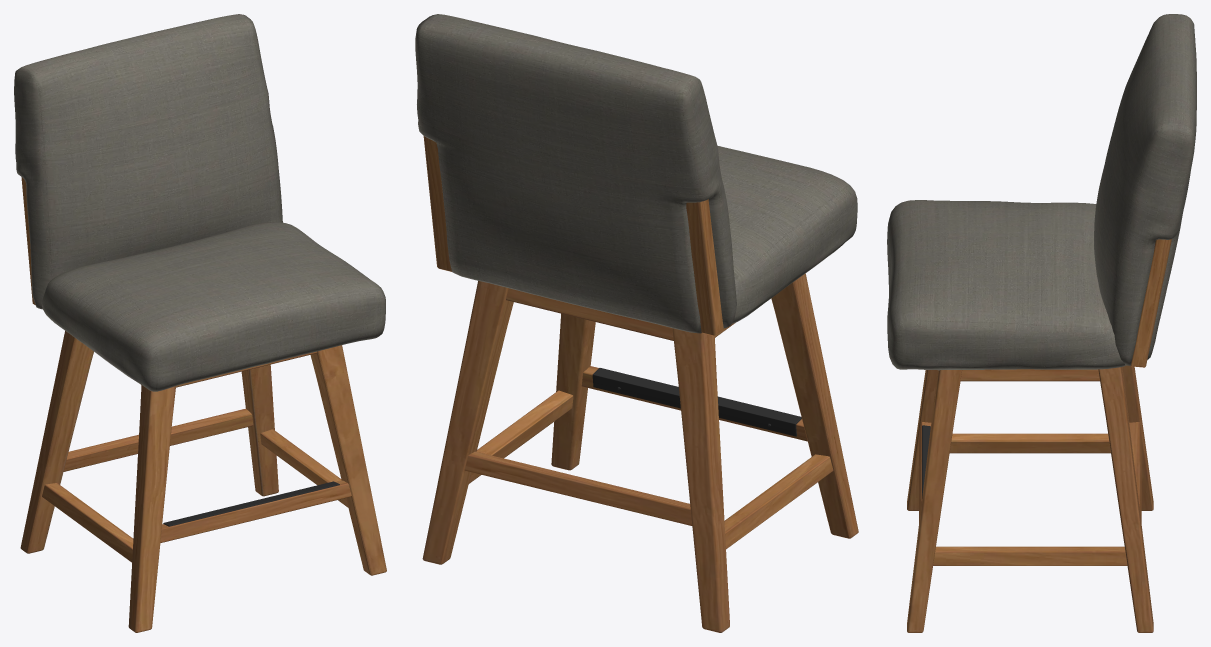
The model's file is abo-B075YMN1J8.glb.
3 renders of one model, left to right at view 1: azimuth 30°, elevation 25°; view 2: azimuth 150°, elevation 25°; view 3: azimuth 270°, elevation 25°, orthographic. The views are drawn at different scales.
Bounding box in the file's own units: 0.57 × 1.02 × 0.57.
1 material, 1 textured.
